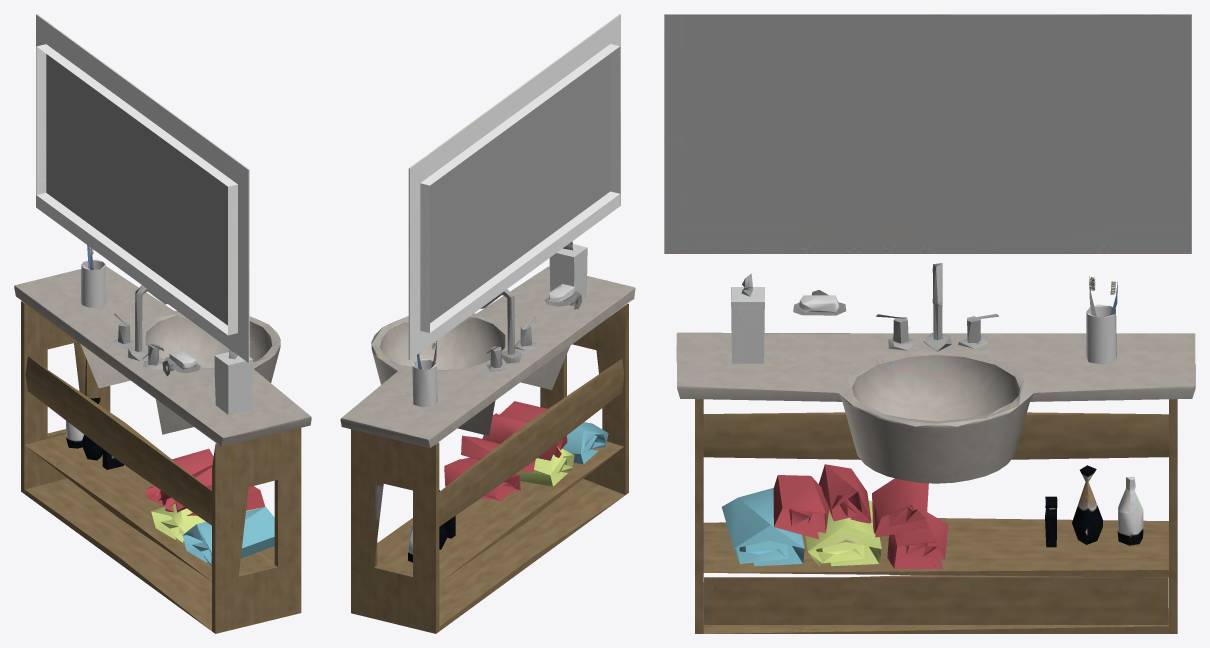
The model's file is Wallwash0002.obj.
3 renders of one model, left to right at view 1: azimuth 30°, elevation 25°; view 2: azimuth 150°, elevation 25°; view 3: azimuth 270°, elevation 25°, orthographic. The views are drawn at different scales.
Bounding box in the file's own units: 0.511 × 1.5 × 1.24.
1 material, 1 textured.
